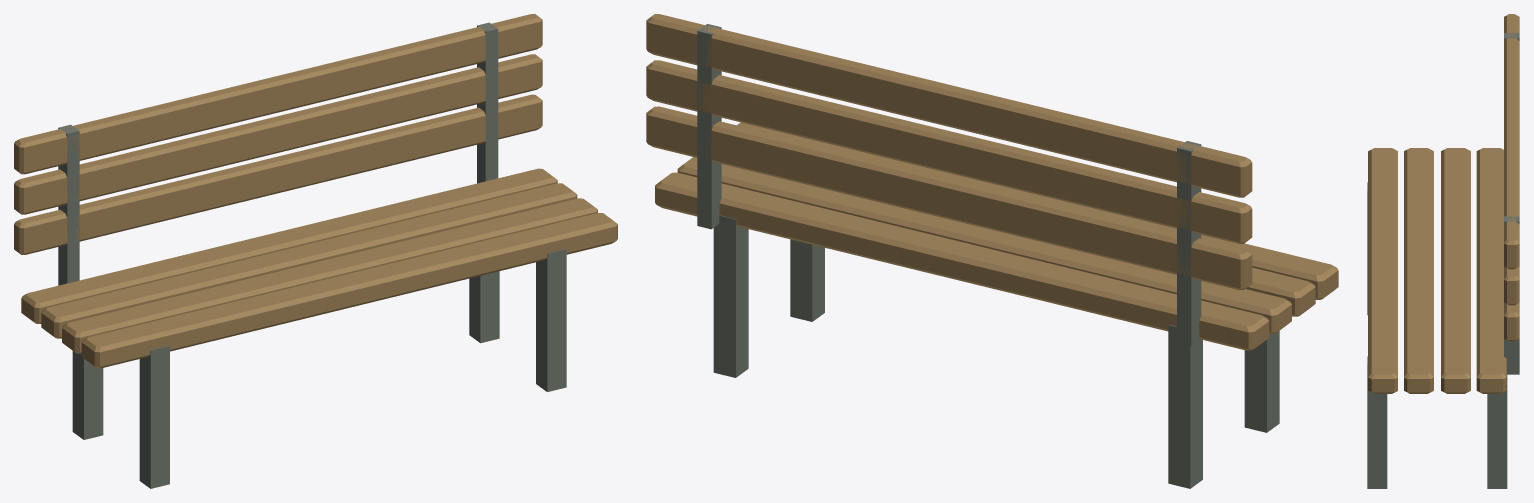
The model's file is bench.glb.
The picture shows the model from 3 angles, left to right: view 1: azimuth 30°, elevation 25°; view 2: azimuth 150°, elevation 25°; view 3: azimuth 270°, elevation 25°; orthographic projection. The views are drawn at different scales.
Visible parts, largest first — view 1: bench.001; view 2: bench.001; view 3: bench.001.
Part boxes in pixels (x1=…): bench.001: x1=14, y1=14, x2=617, y2=488; bench.001: x1=646, y1=14, x2=1338, y2=488; bench.001: x1=1367, y1=14, x2=1519, y2=488.
Size of the model in its own units: 1.9 by 1.04 by 0.5325.
